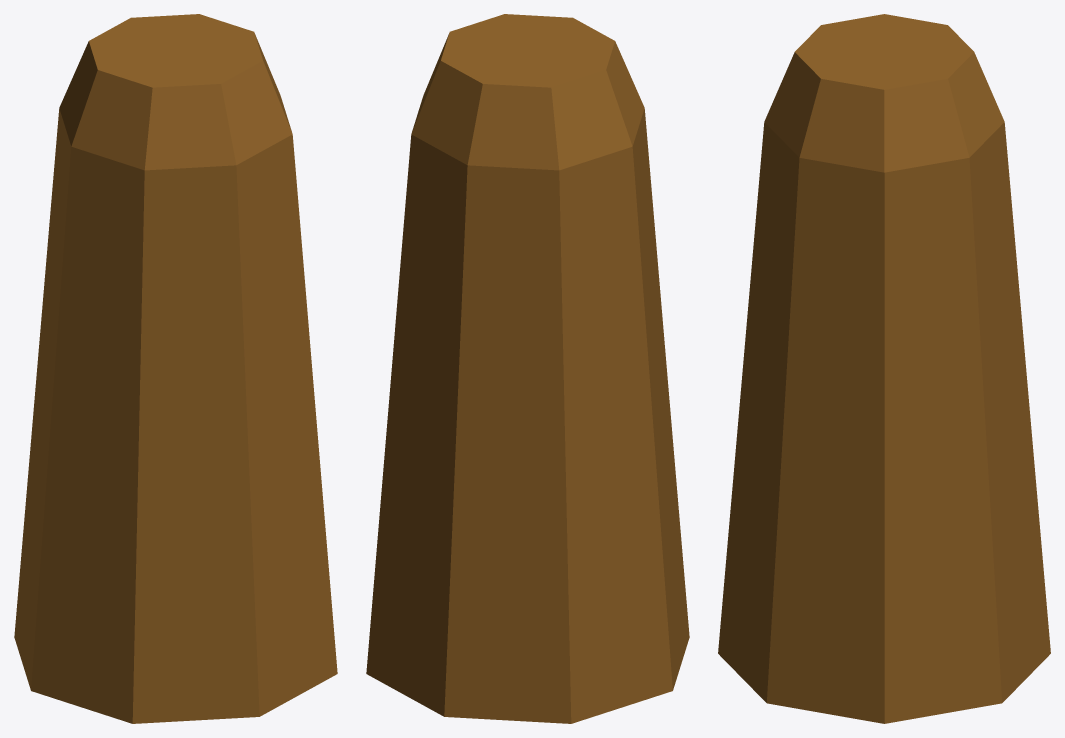
The model's file is Large_sand_mountain.glb.
3 views of the same model, side by side, from view 1: azimuth 30°, elevation 25°; view 2: azimuth 150°, elevation 25°; view 3: azimuth 270°, elevation 25° (orthographic).
Parts seen in each view (by area): view 1: largesandmountain; view 2: largesandmountain; view 3: largesandmountain.
Boxes of the visible parts, x1=… form: largesandmountain: x1=14, y1=14, x2=337, y2=723; largesandmountain: x1=366, y1=14, x2=689, y2=723; largesandmountain: x1=718, y1=14, x2=1050, y2=723.
Size of the model in its own units: 9.76 by 19.45 by 9.76.
